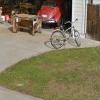Bicycle: (45, 10, 83, 55)
